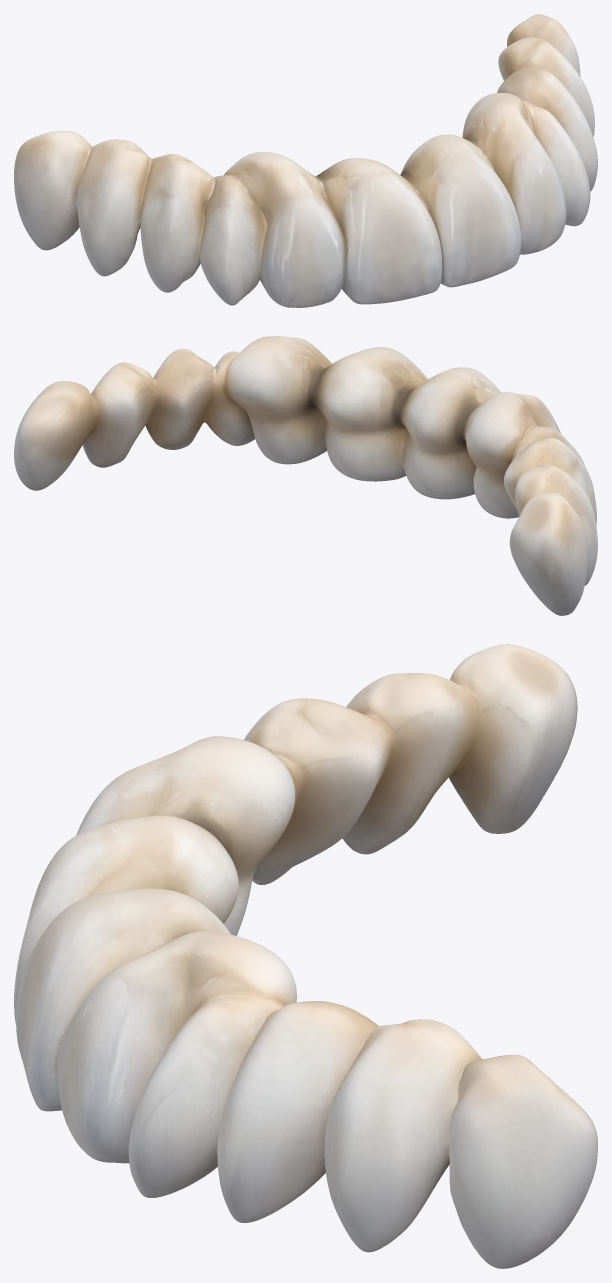
File: base_basic_shaded.glb
The picture shows the model from 3 angles, top to bottom: view 1: azimuth 30°, elevation 25°; view 2: azimuth 150°, elevation 25°; view 3: azimuth 270°, elevation 25°; orthographic projection. The views are drawn at different scales.
Visible parts, largest first — view 1: model; view 2: model; view 3: model.
Boxes of the visible parts, x1,y1,x2,y2 form: model: (14, 14, 597, 307); model: (14, 336, 597, 615); model: (14, 644, 597, 1268).
Bounding box in the file's own units: 1.9 × 0.4143 × 1.01.
Materials: 1 (1 with a texture image).
